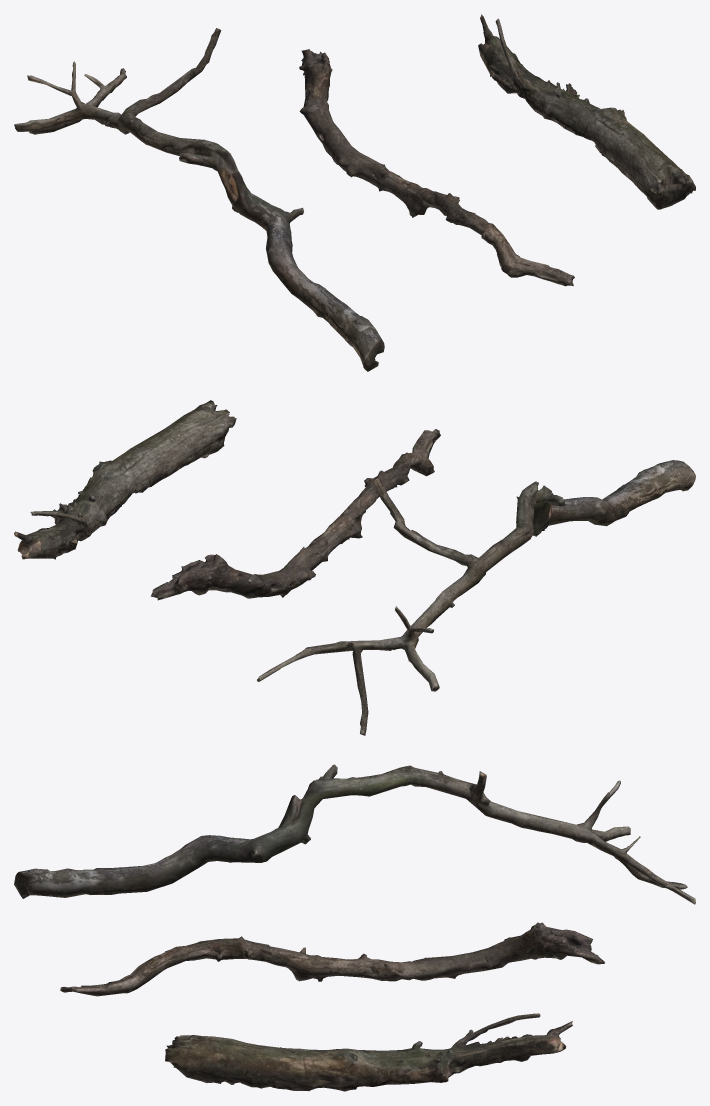
File: dry_branches_medium_01.glb
The picture shows the model from 3 angles, top to bottom: view 1: azimuth 30°, elevation 25°; view 2: azimuth 150°, elevation 25°; view 3: azimuth 270°, elevation 25°; orthographic projection. The views are drawn at different scales.
Parts seen in each view (by area): view 1: dry_branches_medium_01_a, dry_branches_medium_01_c, dry_branches_medium_01_b; view 2: dry_branches_medium_01_a, dry_branches_medium_01_c, dry_branches_medium_01_b; view 3: dry_branches_medium_01_a, dry_branches_medium_01_c, dry_branches_medium_01_b.
Boxes of the visible parts, x1,y1,x2,y2 form: dry_branches_medium_01_a: (14,28,384,371); dry_branches_medium_01_c: (478,14,695,209); dry_branches_medium_01_b: (299,49,574,286); dry_branches_medium_01_a: (257,460,695,735); dry_branches_medium_01_c: (14,400,236,559); dry_branches_medium_01_b: (150,429,440,600); dry_branches_medium_01_a: (14,764,695,904); dry_branches_medium_01_c: (165,1013,572,1091); dry_branches_medium_01_b: (60,922,604,996).
Bounding box in the file's own units: 1.06 × 0.3401 × 1.3.
1 material, 1 textured.
